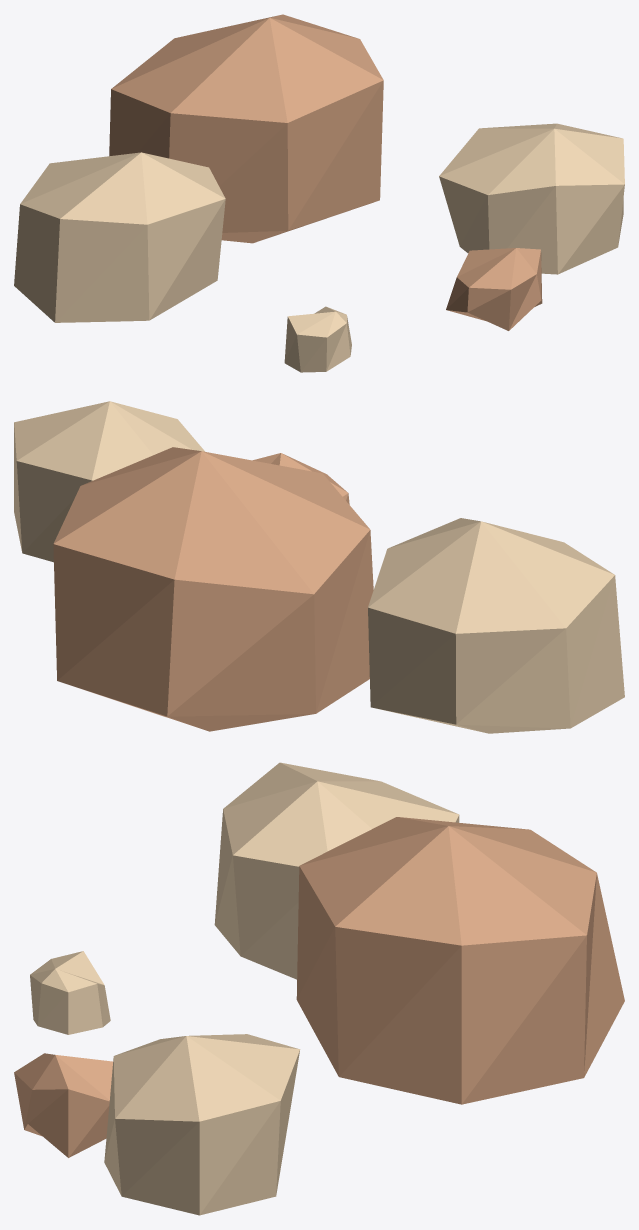
3 views of the same model, one above another, from view 1: azimuth 30°, elevation 25°; view 2: azimuth 150°, elevation 25°; view 3: azimuth 270°, elevation 25° (orthographic). The views are drawn at different scales.
Size of the model in its own units: 5.97 by 2.4 by 4.66.
